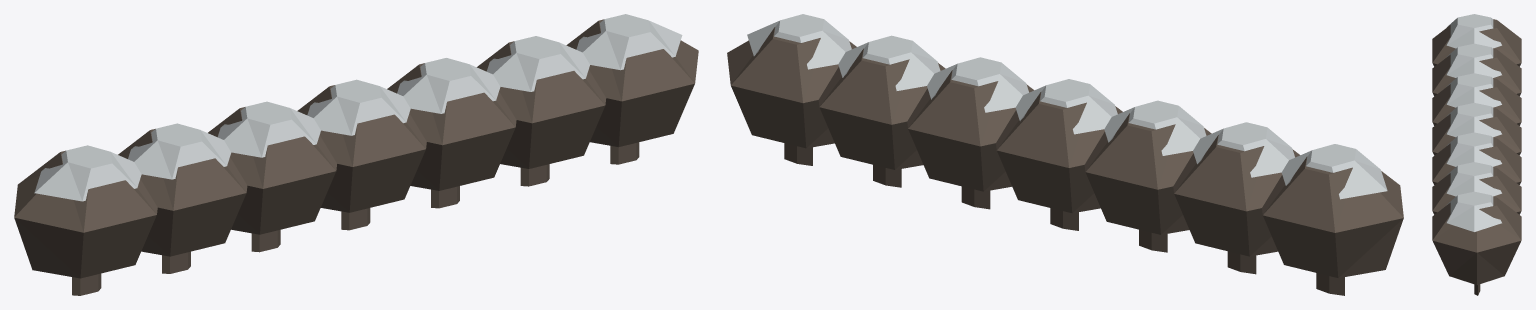
The model's file is hedge.glb.
3 views of the same model, side by side, from view 1: azimuth 30°, elevation 25°; view 2: azimuth 150°, elevation 25°; view 3: azimuth 270°, elevation 25° (orthographic). The views are drawn at different scales.
Parts seen in each view (by area): view 1: hedge; view 2: hedge; view 3: hedge.
Part boxes in pixels (<box>): hedge: <box>14,14,698,295</box>; hedge: <box>727,14,1403,295</box>; hedge: <box>1432,14,1521,295</box>.
Size of the model in its own units: 5.76 by 1.1 by 0.96.
